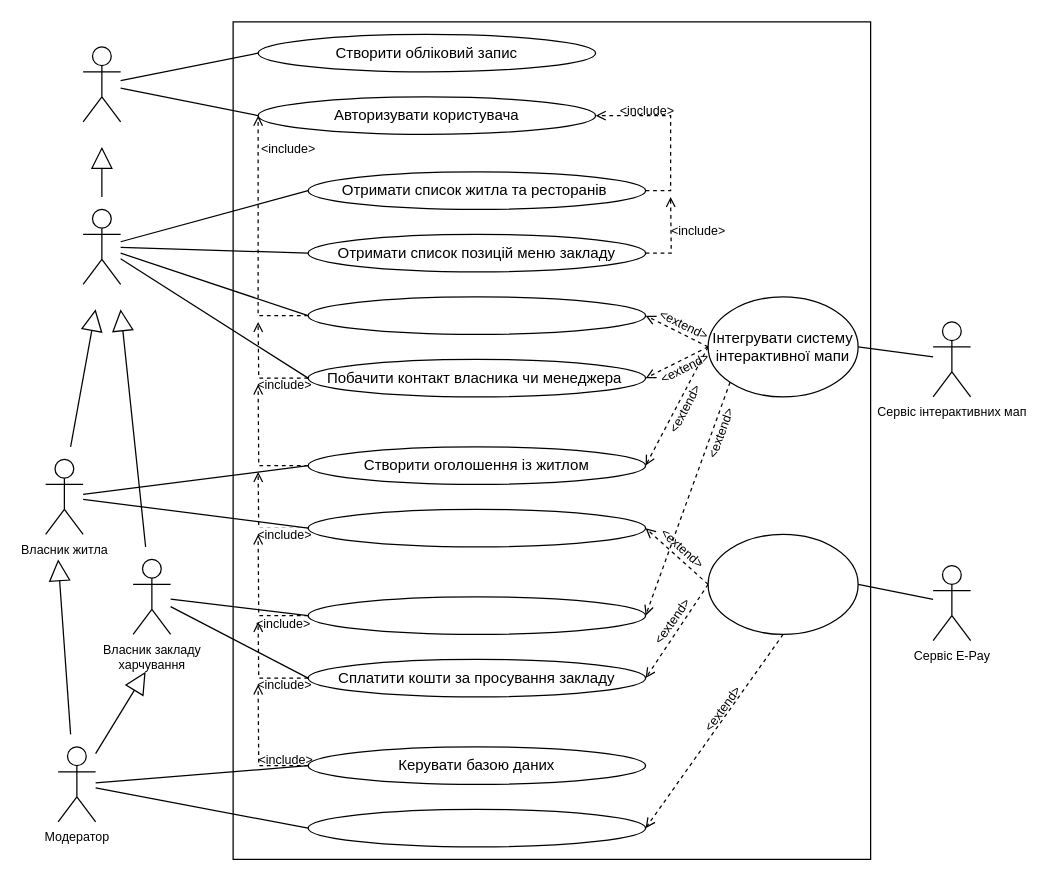
The diagram is 1048 pixels wide and 881 high, and some of its shapes have lost their labels. The box of each missing label's shape, as (x1, y1, x2, y2) in pixels:
Користувач: (82, 46, 121, 122)
Отримати кошти: (307, 808, 646, 847)
Отримати інформацію у вигляді мапи: (307, 296, 646, 334)
Розмістити інформацію про заклад та меню: (307, 596, 646, 634)
Сплатити кошти за просування оголошення: (307, 508, 646, 547)
Шукач: (82, 208, 121, 284)
Інтегрувати систему Е-сплати: (707, 533, 858, 634)
